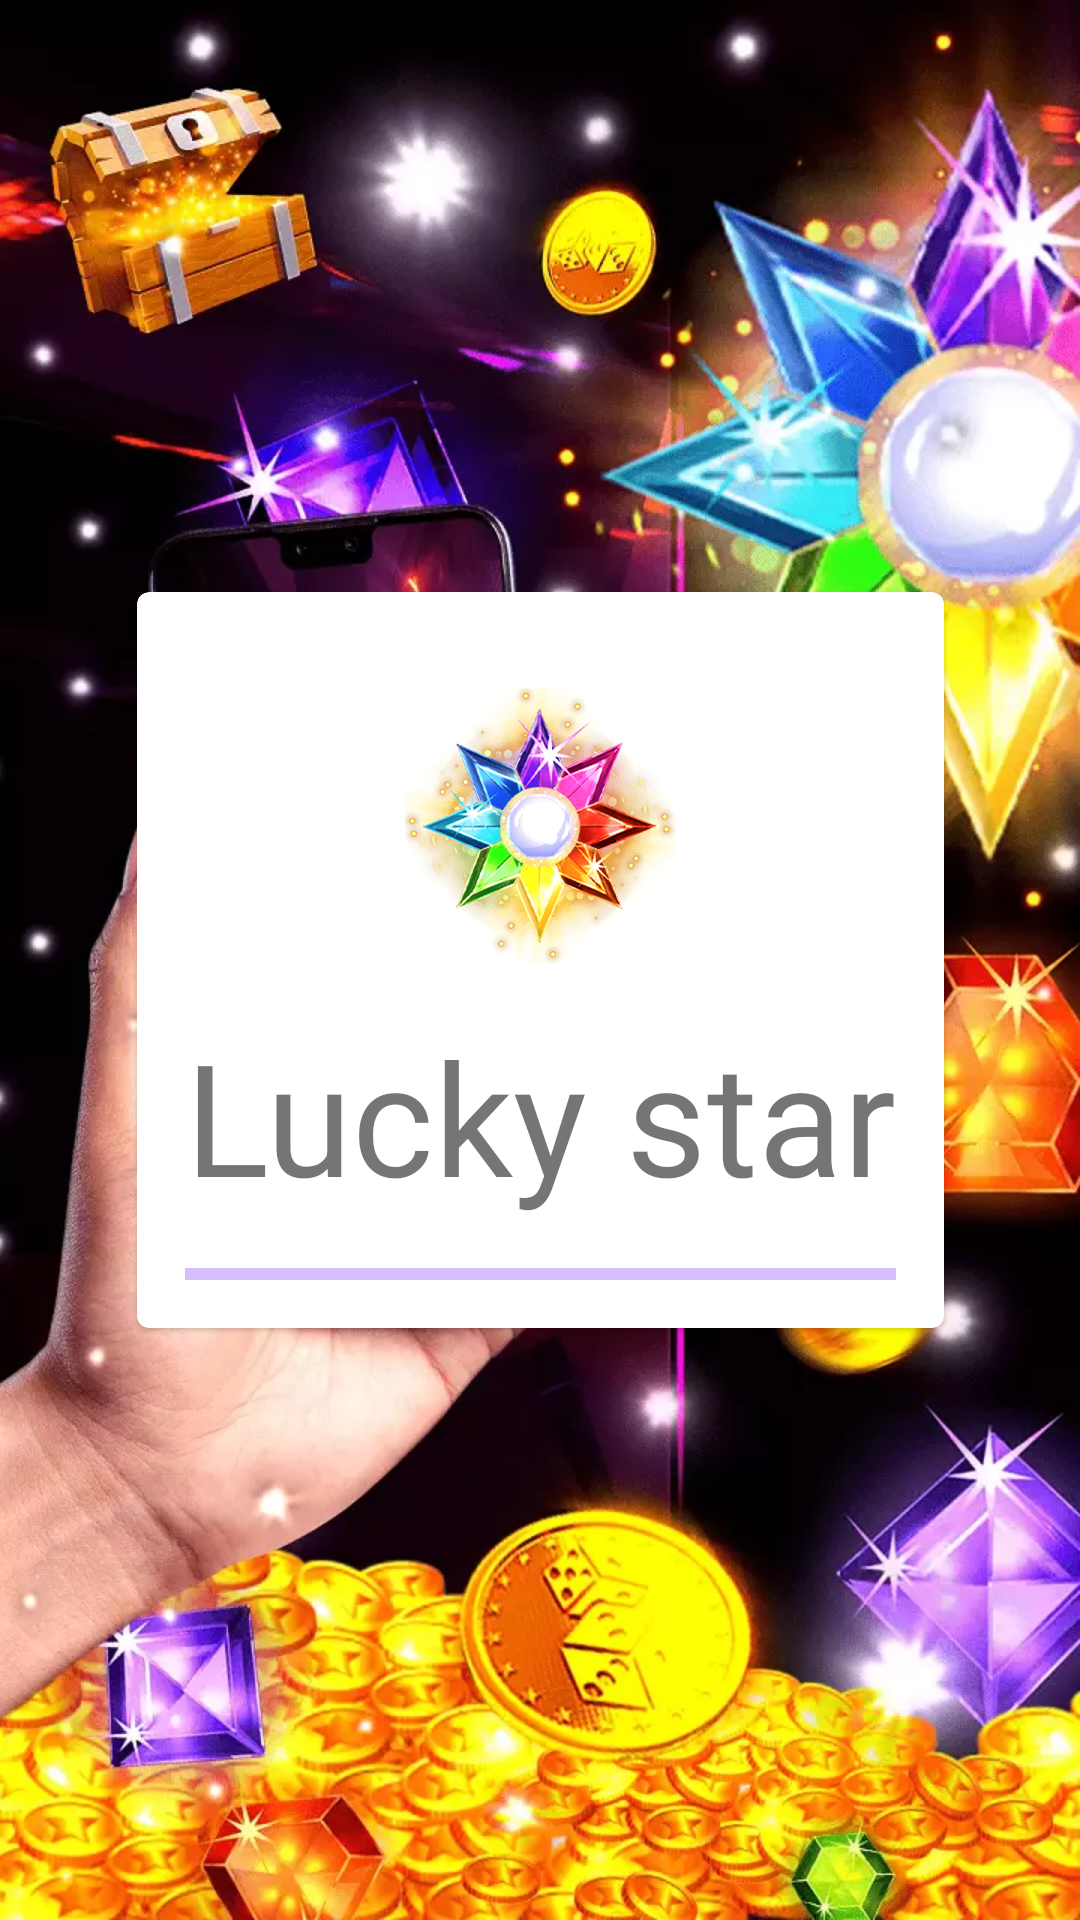

Icon bounding boxes for this 1080 x 1920 phone screenshot, format (x1, y1, x2, y2):
win hero: (405, 688, 675, 963)
